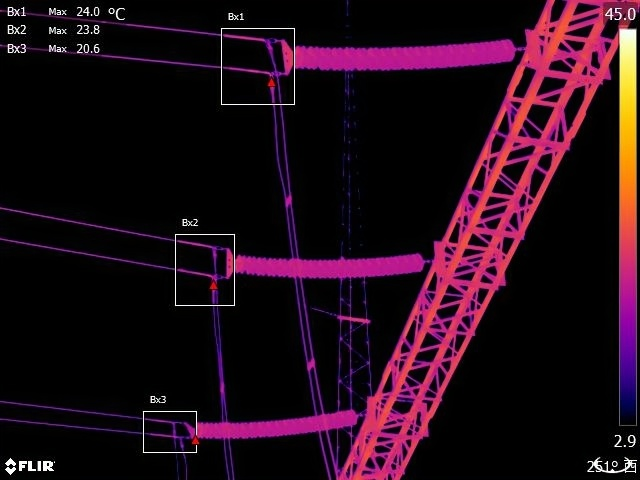clamp: (200, 241, 226, 288), (258, 36, 278, 87), (168, 418, 186, 449)
insulator: (286, 26, 520, 76), (227, 238, 429, 286), (191, 401, 360, 445), (335, 309, 376, 329)
